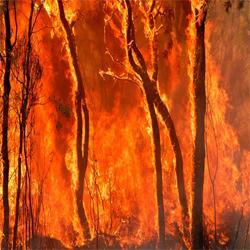fire: (92, 116, 153, 227), (31, 96, 77, 219), (203, 82, 244, 199)
